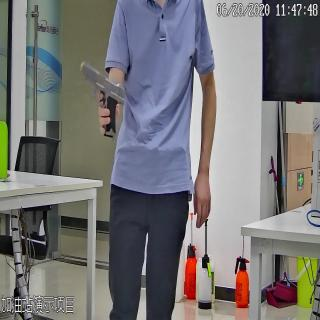gun: (79, 58, 128, 139)
